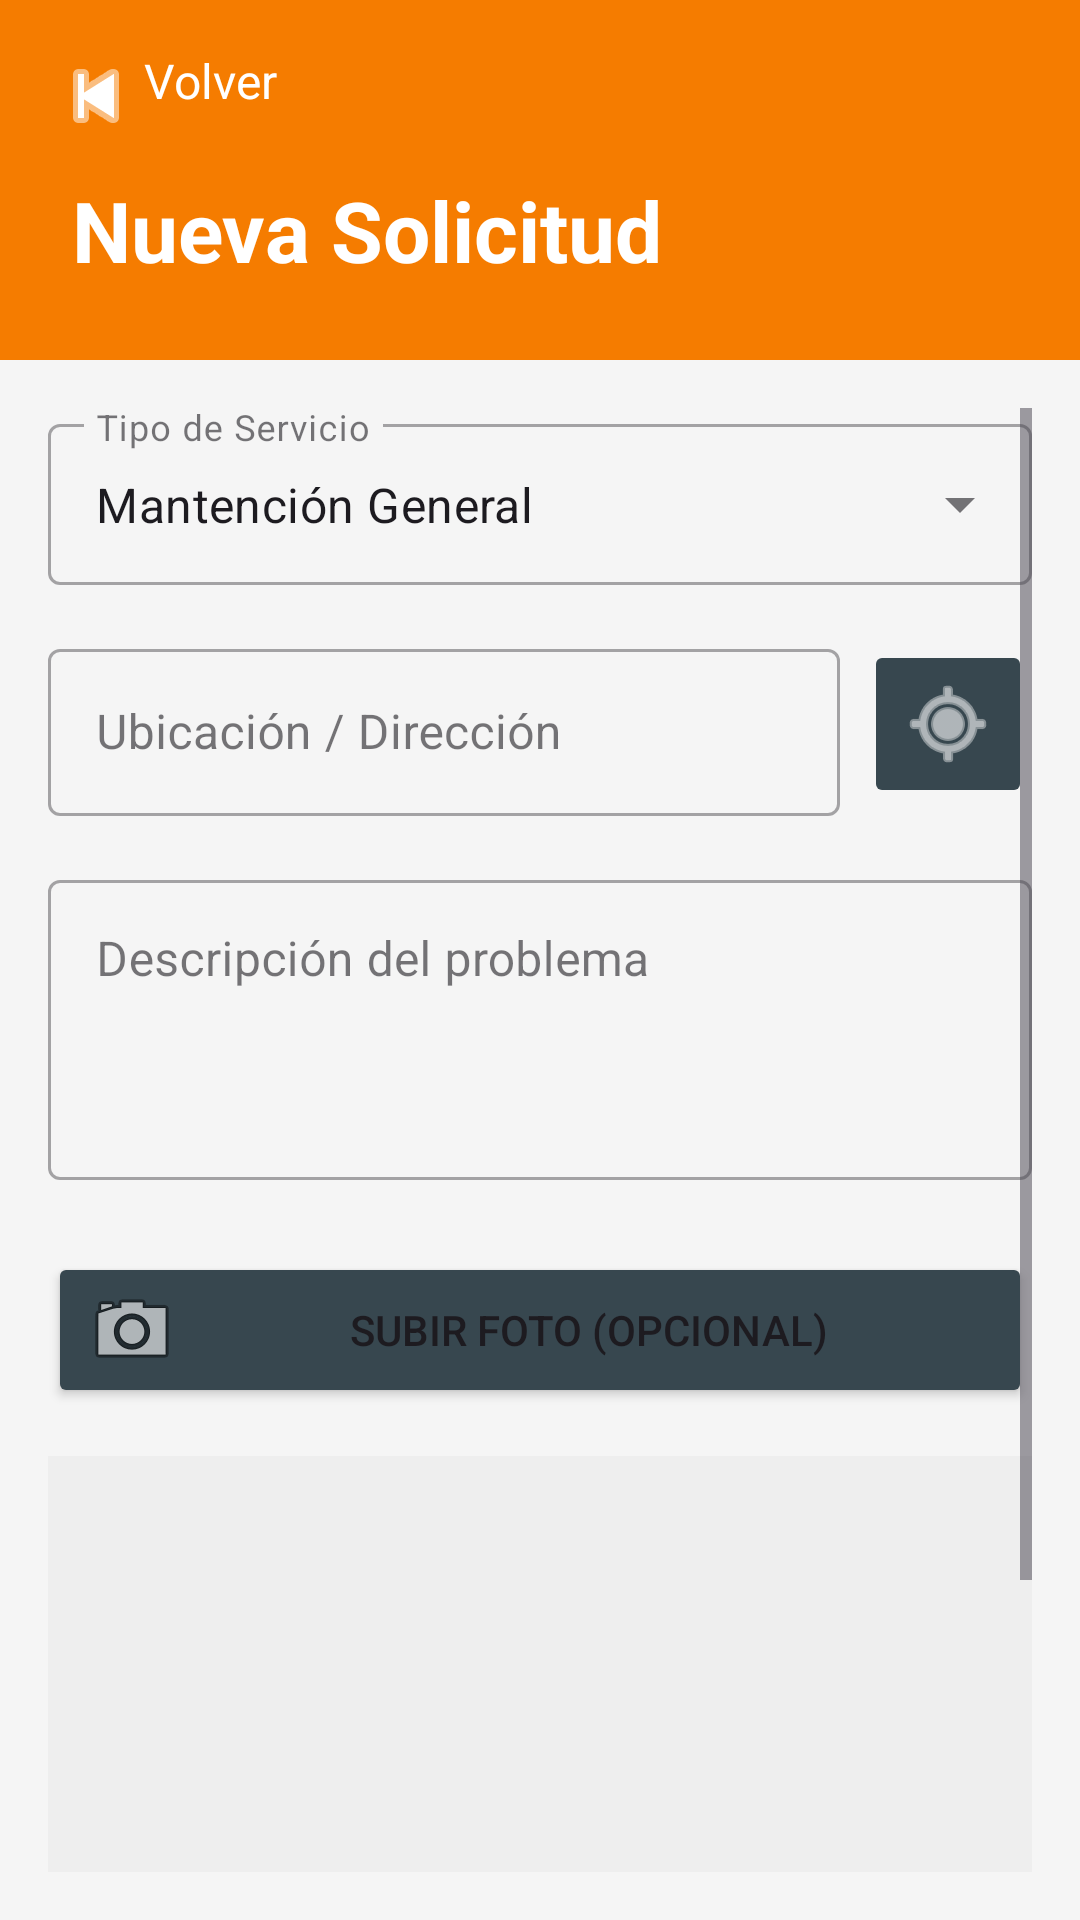

Icons on this 1080px×1920px Android screen, each with its box as (x1, y1, x2, y2):
Usar GPS: (876, 640, 1032, 808)
